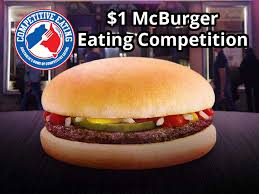hamburger: (40, 56, 219, 171)
